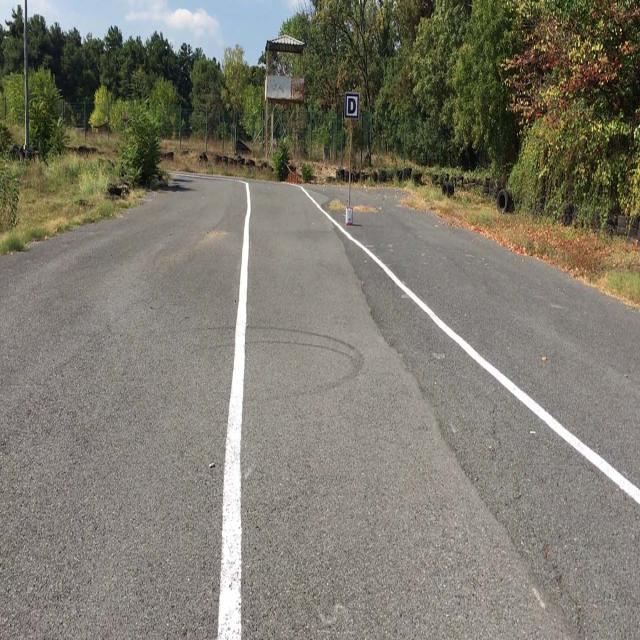durak: (345, 93, 359, 119)
